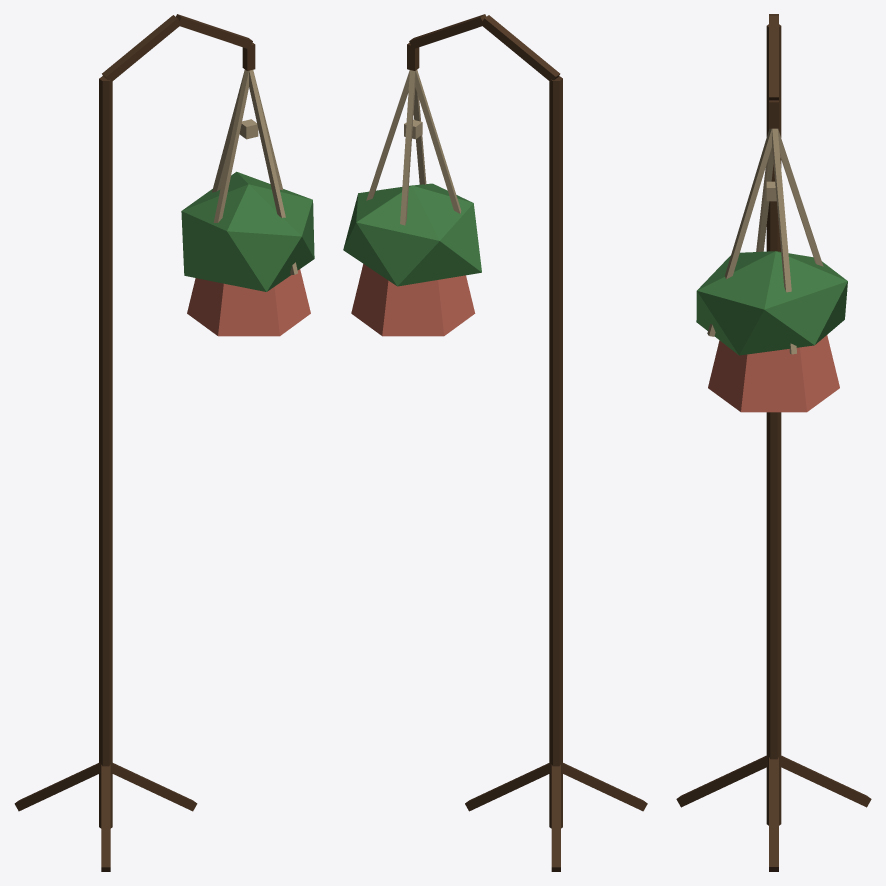
The model's file is plant-hanger-16.glb.
The picture shows the model from 3 angles, left to right: view 1: azimuth 30°, elevation 25°; view 2: azimuth 150°, elevation 25°; view 3: azimuth 270°, elevation 25°; orthographic projection. The views are drawn at different scales.
Visible parts, largest first — view 1: plant_hanger_16; view 2: plant_hanger_16; view 3: plant_hanger_16.
Boxes of the visible parts, x1=… form: plant_hanger_16: x1=14, y1=14, x2=314, y2=871; plant_hanger_16: x1=343, y1=14, x2=647, y2=871; plant_hanger_16: x1=676, y1=14, x2=871, y2=871.
Size of the model in its own units: 0.6335 by 1.92 by 0.4009.
